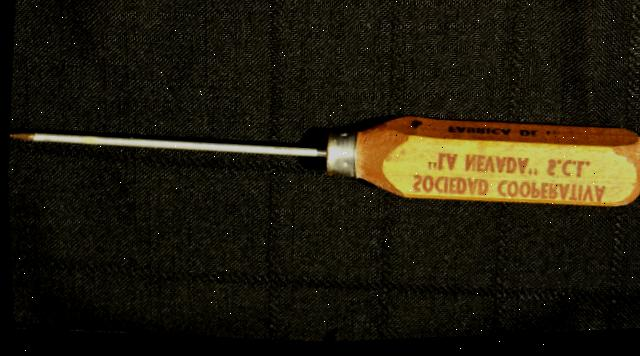ice pick: (3, 76, 640, 235)
